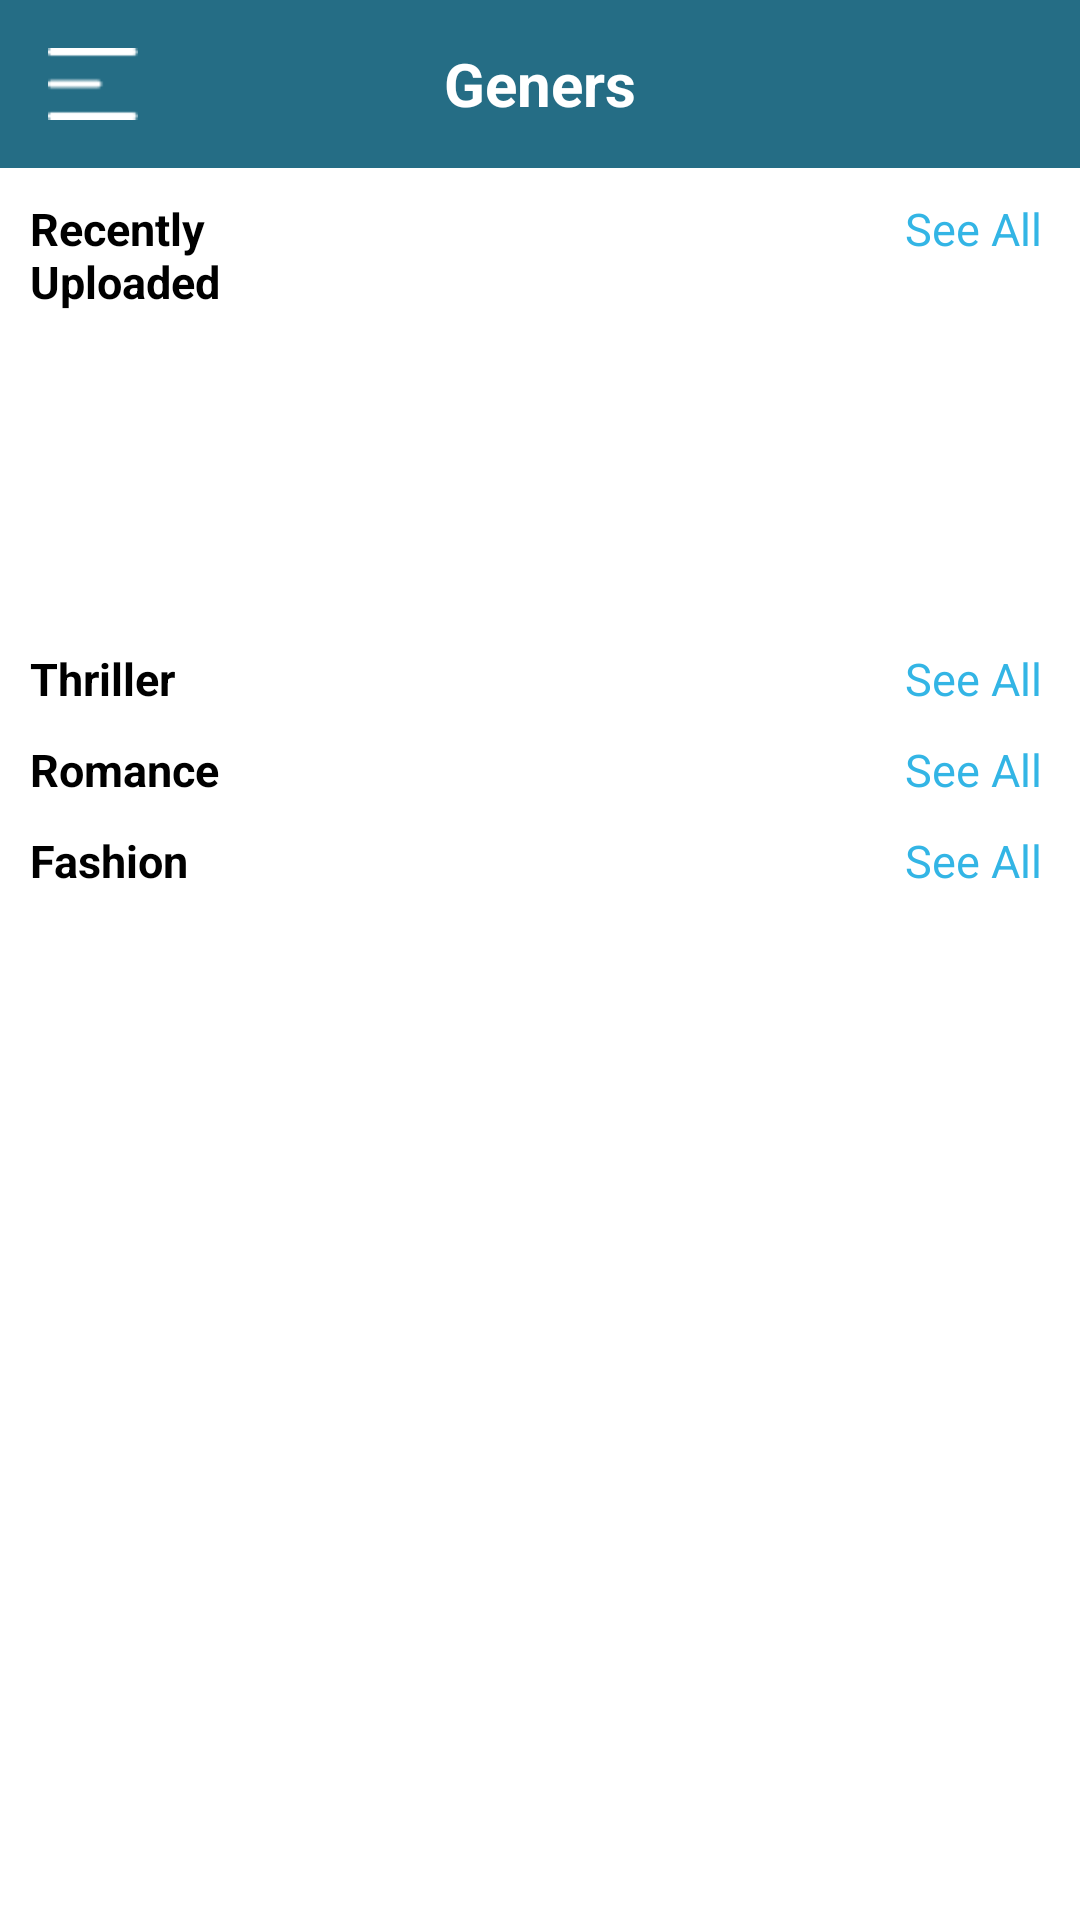

Icons on this 1080px x 1920px Android screen, each with the point to tap as (x=x, y=y):
hamburger: (x=93, y=84)
